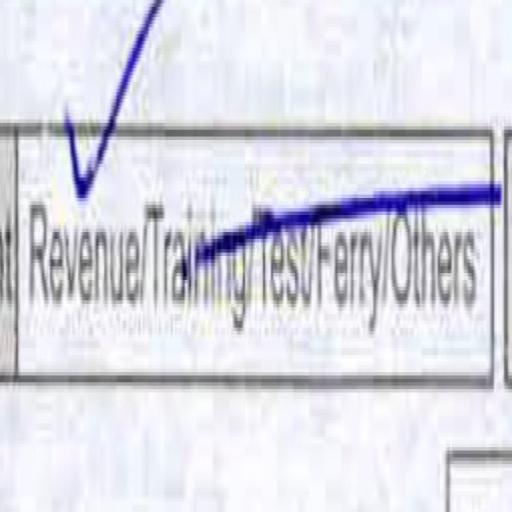check: (22, 62, 148, 414)
